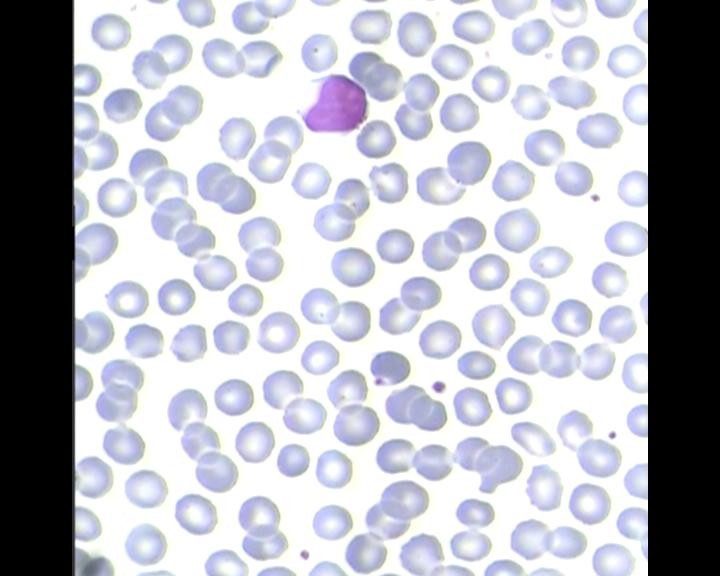lymp: (290, 72, 369, 136)
